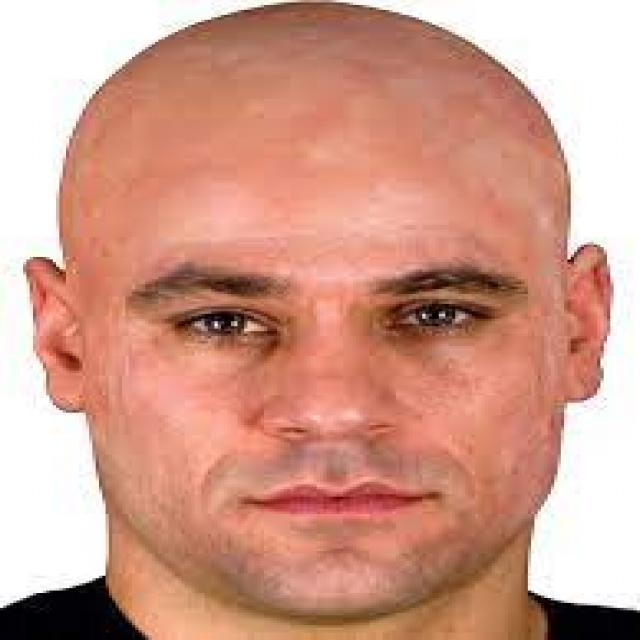bald: (13, 7, 618, 298)
